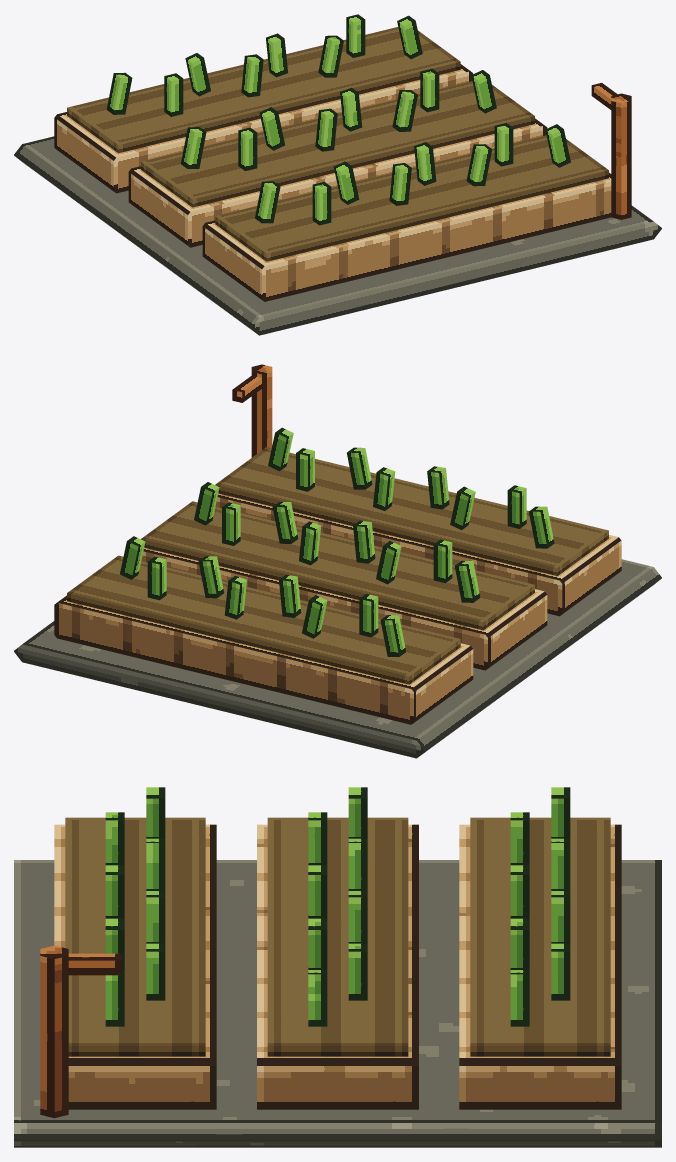
The model's file is cropplot.glb.
3 views of the same model, one above another, from view 1: azimuth 30°, elevation 25°; view 2: azimuth 150°, elevation 25°; view 3: azimuth 270°, elevation 25° (orthographic). The views are drawn at different scales.
Visible parts, largest first — view 1: pad, soil2, bed2, soil0, soil1, bed1, bed0, stand, crop2_0, crop0_5, crop2_5, crop0_0 (+20 smaller); view 2: pad, bed0, soil0, soil1, soil2, bed1, bed2, stand, crop2_0, crop2_5, crop0_5, crop0_0 (+20 smaller); view 3: pad, soil1, soil0, soil2, bed0, bed1, bed2, stand, tap, crop0_6, crop1_6, crop2_6 (+21 smaller).
Boxes of the visible parts, box(x1,y1,x2,y2) form: pad: box(14, 136, 661, 335); soil2: box(215, 135, 608, 261); bed2: box(202, 172, 611, 301); soil0: box(67, 27, 460, 153); soil1: box(141, 81, 534, 207); bed1: box(128, 118, 547, 247); bed0: box(54, 64, 473, 193); stand: box(611, 93, 631, 219); crop2_0: box(255, 181, 280, 223); crop0_5: box(318, 35, 343, 77); crop2_5: box(466, 144, 492, 186); crop0_0: box(106, 72, 132, 114); pad: box(14, 559, 661, 758); bed0: box(54, 595, 473, 724); soil0: box(67, 555, 460, 684); soil1: box(141, 501, 534, 630); soil2: box(215, 447, 608, 575); bed1: box(141, 547, 547, 670); bed2: box(215, 493, 621, 616); stand: box(251, 364, 272, 457); crop2_0: box(529, 506, 554, 548); crop2_5: box(347, 447, 372, 489); crop0_5: box(198, 556, 223, 598); crop0_0: box(380, 615, 406, 656); pad: box(14, 860, 661, 1147); soil1: box(267, 817, 408, 1056); soil0: box(470, 817, 610, 1056); soil2: box(65, 817, 205, 1056); bed0: box(459, 824, 621, 1109); bed1: box(257, 824, 418, 1109); bed2: box(54, 824, 216, 1109); stand: box(40, 945, 68, 1118); tap: box(68, 953, 121, 975); crop0_6: box(551, 943, 570, 1000); crop1_6: box(348, 943, 367, 1000); crop2_6: box(146, 943, 165, 1000).
Bounding box in the file's own units: 48 × 15 × 48.
Materials: 1 (1 with a texture image).
